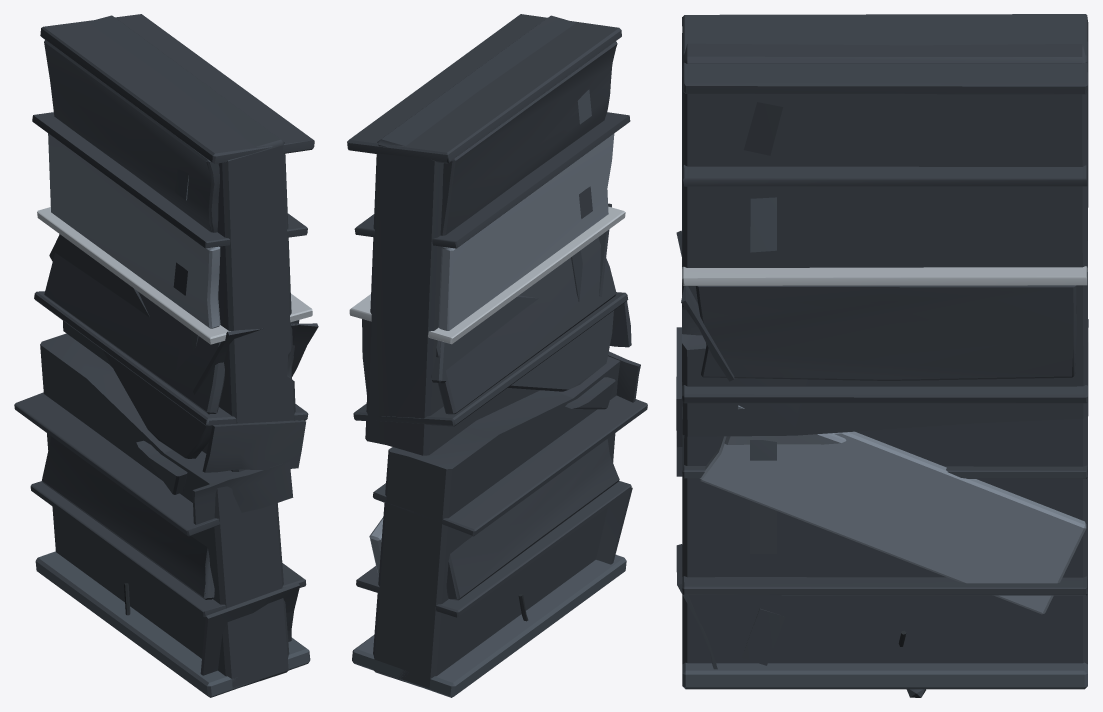
Rendered from hlx_deb_blast_wall_c.glb.
The picture shows the model from 3 angles, left to right: view 1: azimuth 30°, elevation 25°; view 2: azimuth 150°, elevation 25°; view 3: azimuth 270°, elevation 25°; orthographic projection. The views are drawn at different scales.
Parts seen in each view (by area): view 1: husk, frag_05, frag_04, frag_06, frag_03, frag_02; view 2: husk, frag_05, frag_04, frag_06, frag_03, frag_02; view 3: husk, frag_05, frag_01, frag_06, frag_04.
Boxes of the visible parts, <box> form: husk: <box>14,333,310,697</box>; frag_05: <box>37,15,312,471</box>; frag_04: <box>34,234,318,472</box>; frag_06: <box>32,14,314,248</box>; frag_03: <box>44,39,219,232</box>; frag_02: <box>42,436,214,599</box>; husk: <box>352,351,647,697</box>; frag_05: <box>349,15,625,455</box>; frag_04: <box>353,203,631,426</box>; frag_06: <box>347,14,630,248</box>; frag_03: <box>440,41,617,235</box>; frag_02: <box>446,439,619,600</box>; husk: <box>676,416,1087,697</box>; frag_05: <box>682,33,1088,436</box>; frag_01: <box>696,285,1076,380</box>; frag_06: <box>682,14,1088,186</box>; frag_04: <box>676,230,1088,447</box>.
Bounding box in the file's own units: 0.5084 × 2.03 × 1.19.
